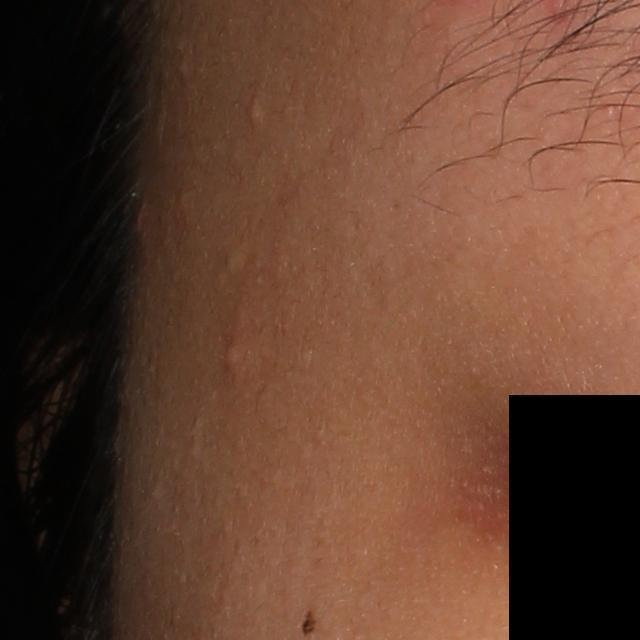nevus: (296, 604, 318, 640)
papule: (219, 342, 243, 373)
